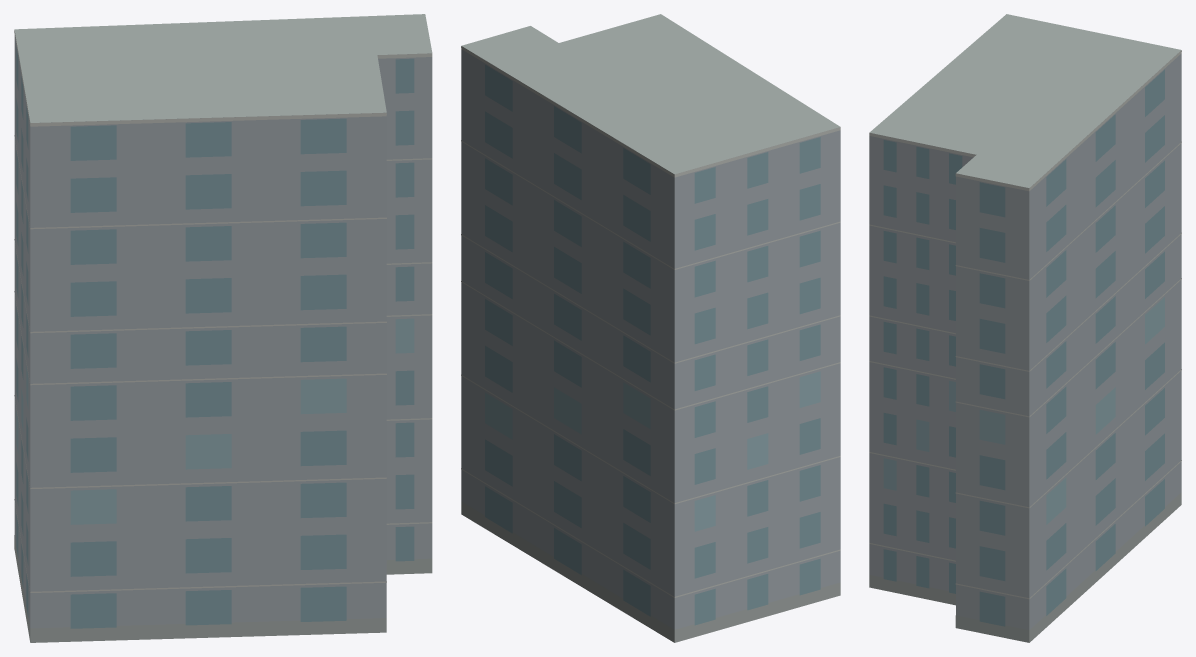
Rendered from survey-upis-32480190.glb.
3 renders of one model, left to right at view 1: azimuth 30°, elevation 25°; view 2: azimuth 150°, elevation 25°; view 3: azimuth 270°, elevation 25°, orthographic. The views are drawn at different scales.
Visible parts, largest first — view 1: survey-upis-32480190.tmp; view 2: survey-upis-32480190.tmp; view 3: survey-upis-32480190.tmp.
Part boxes in pixels (left/top/right/bottom): survey-upis-32480190.tmp: left=14, top=14, right=432, bottom=642; survey-upis-32480190.tmp: left=461, top=14, right=840, bottom=642; survey-upis-32480190.tmp: left=869, top=14, right=1181, bottom=642.
Bounding box in the file's own units: 28.64 × 34.84 × 21.71.
